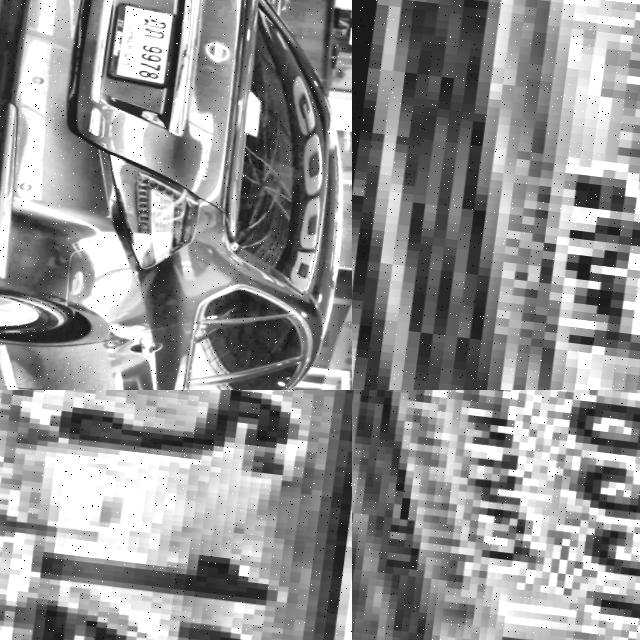license-plate: (389, 0, 640, 390), (0, 390, 352, 640), (352, 390, 640, 640), (94, 0, 183, 89)
